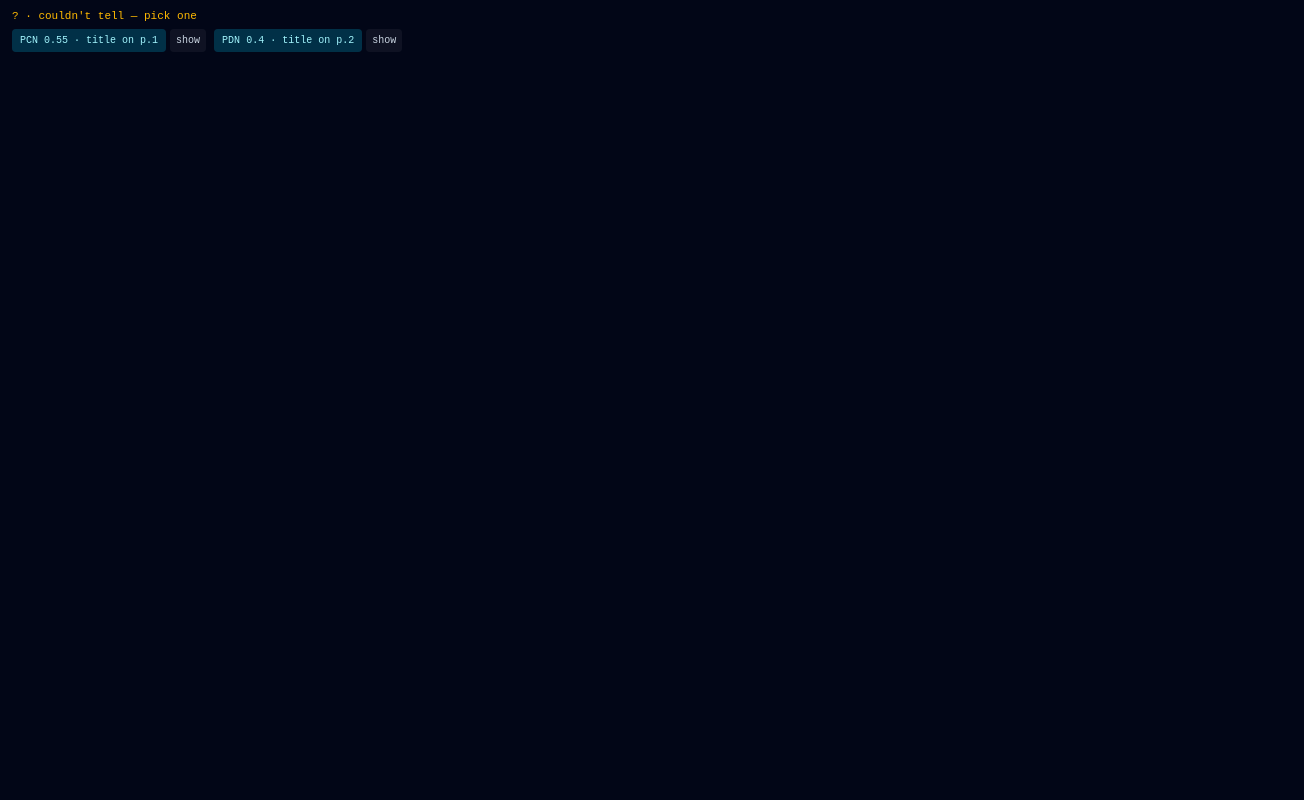
Scenario: IngestLeafChip › the candidate's crop › show on a second candidate switches the crop; show again hides it
The image size is (1304, 800).
What coordinates should you click on to do the following:
click the 1st button "show"
I would click on:
 (188, 40)
Its box is [170,28,206,52].
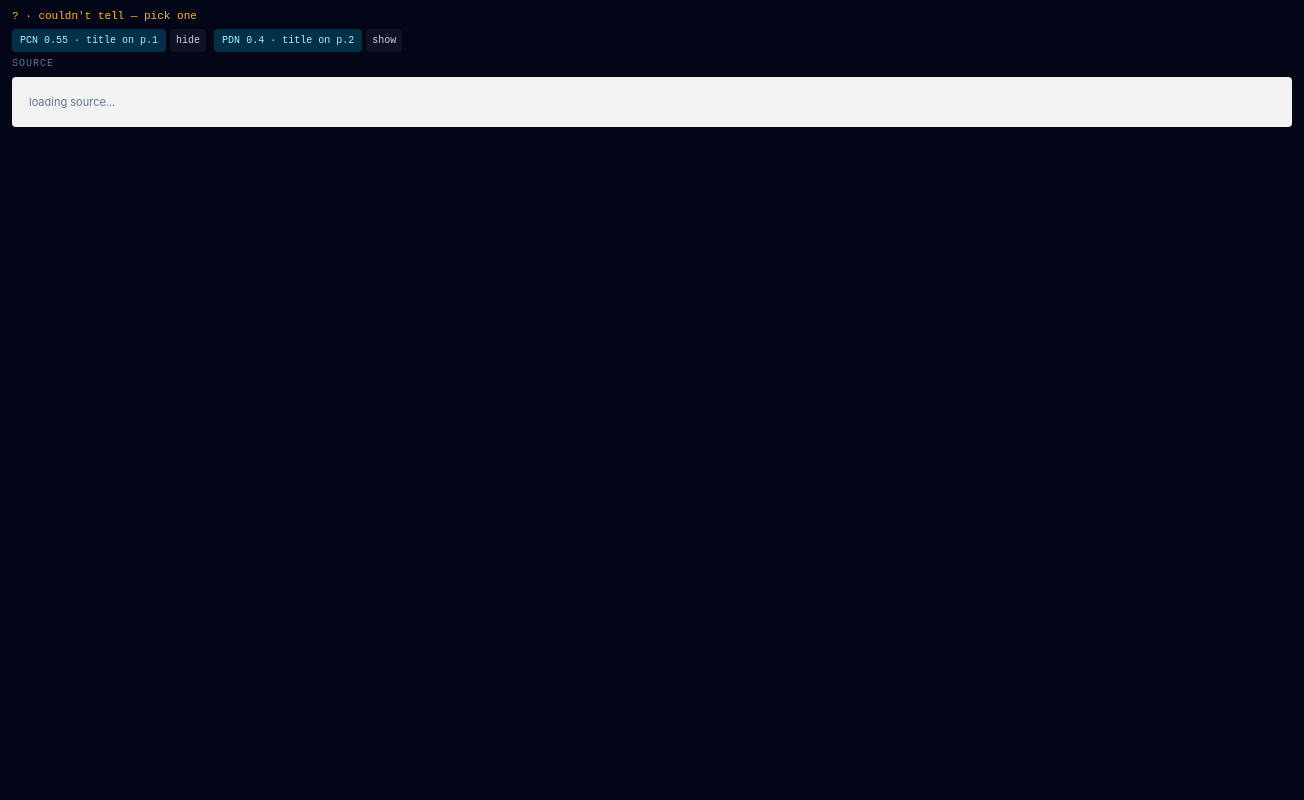
Expected: the element showing "source loading source…" is shown, [12,56,1292,127]
Expected: the button "hide" is shown, [170,28,206,52]
What coordinates should you click on to do the following:
click the button "show"
I would click on:
 (384, 40)
Its box is [366,28,402,52].
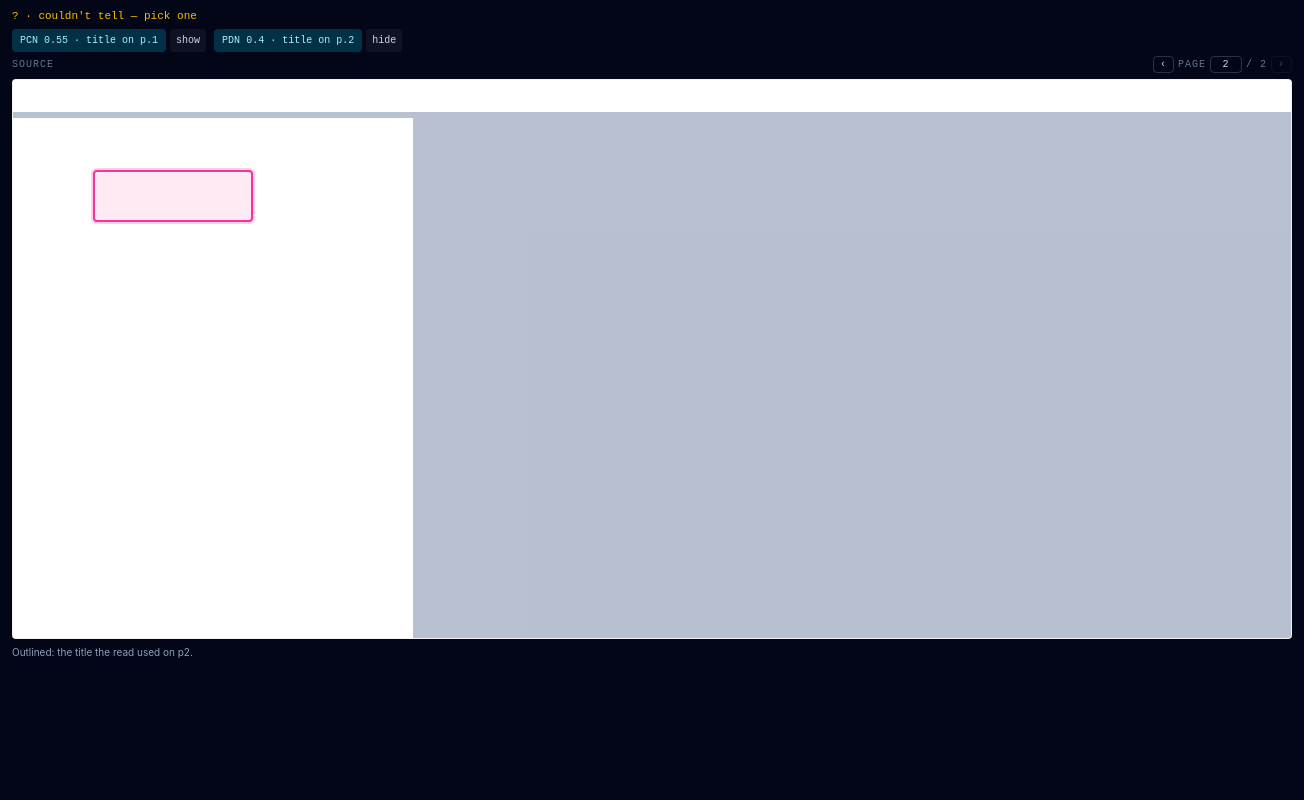
Expected: the element that starts with "source" is shown
What coordinates should you click on to do the following:
click the button "hide"
I would click on:
 (384, 40)
Its box is [366,28,402,52].
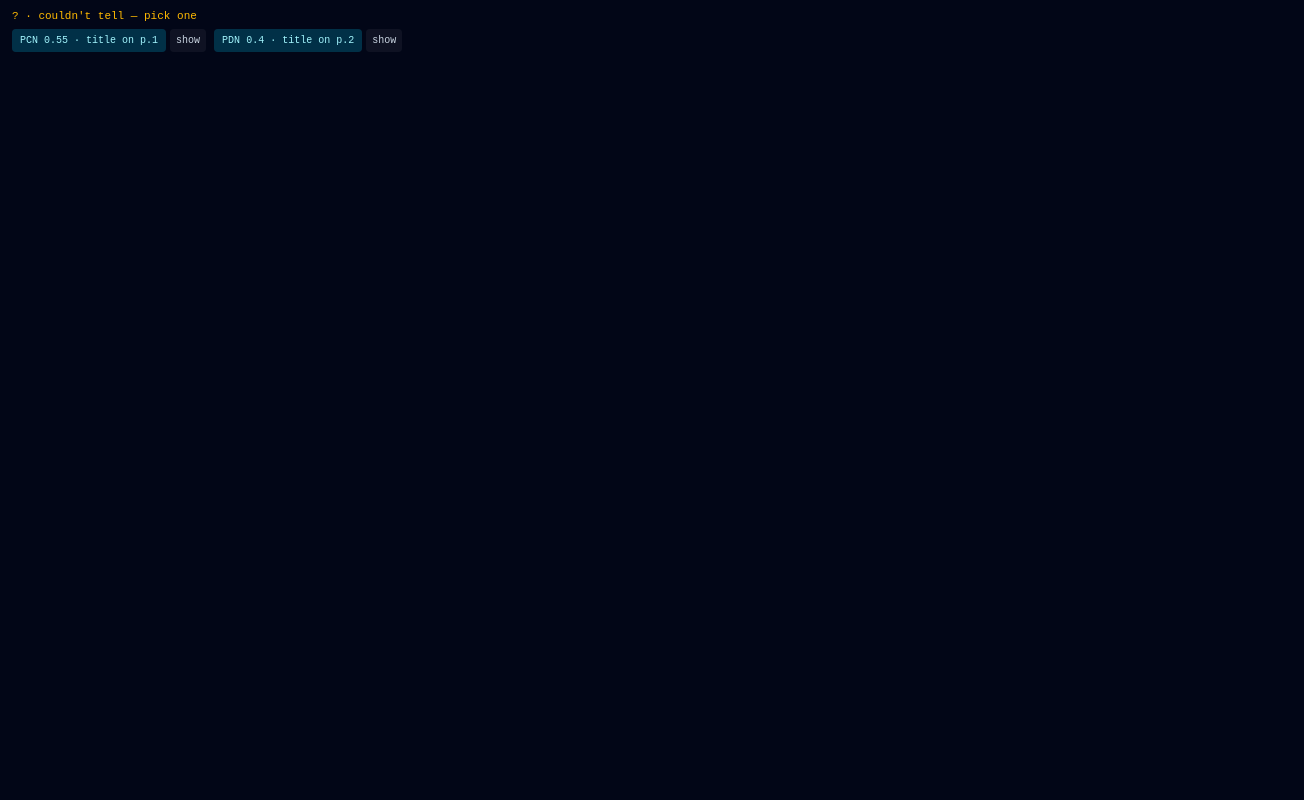
Expected: the 2nd button "show" is shown, [366,28,402,52]
